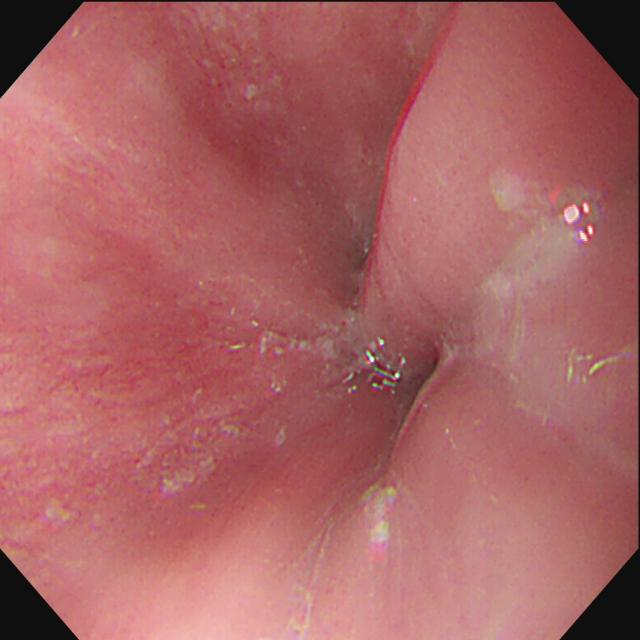I: (312, 205, 470, 477)
J: (138, 327, 329, 492), (474, 167, 574, 419), (351, 479, 414, 560)
U: (339, 335, 408, 397), (557, 193, 597, 247)
